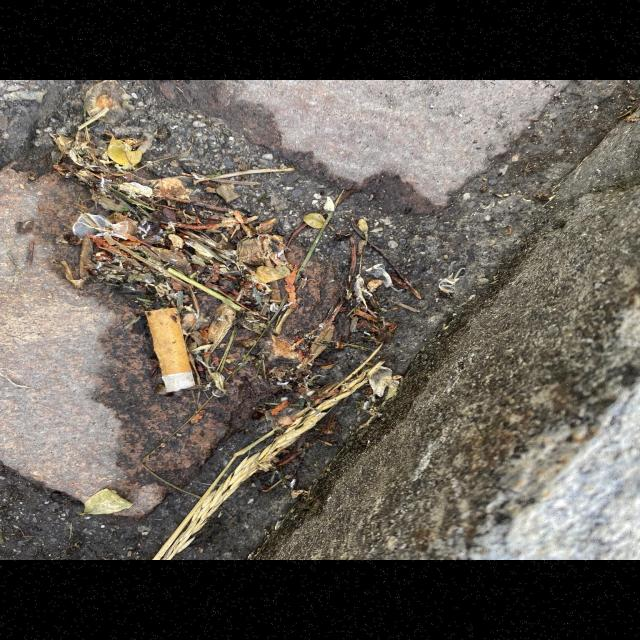other waste: (143, 306, 197, 393)
